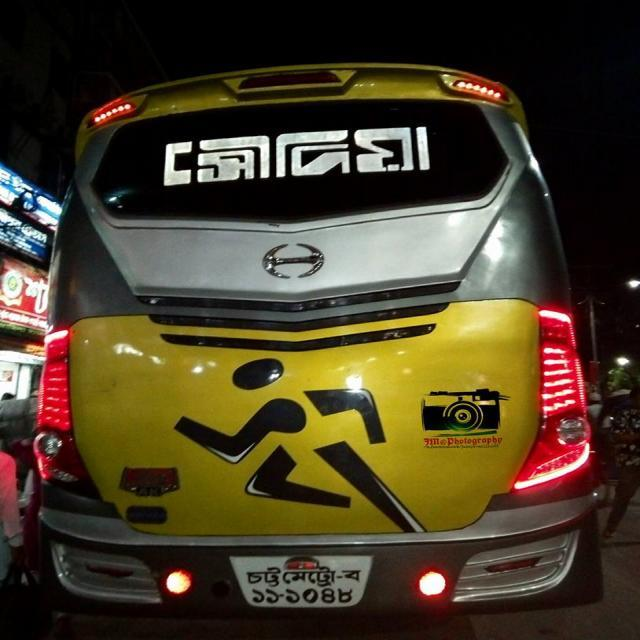bus: (30, 59, 606, 622)
